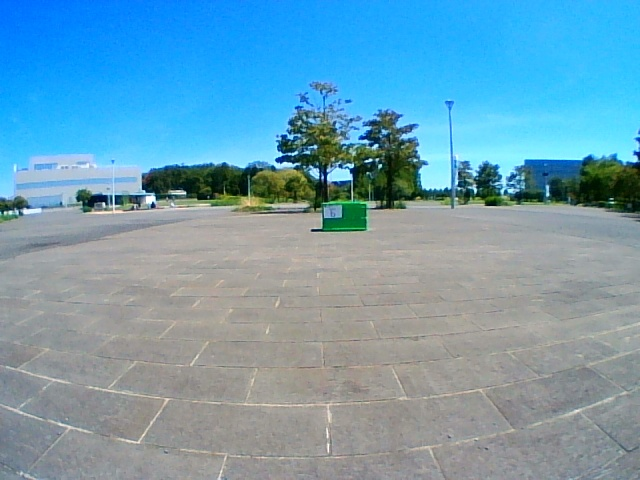green_box: (322, 201, 367, 232)
tag: (324, 205, 341, 218)
